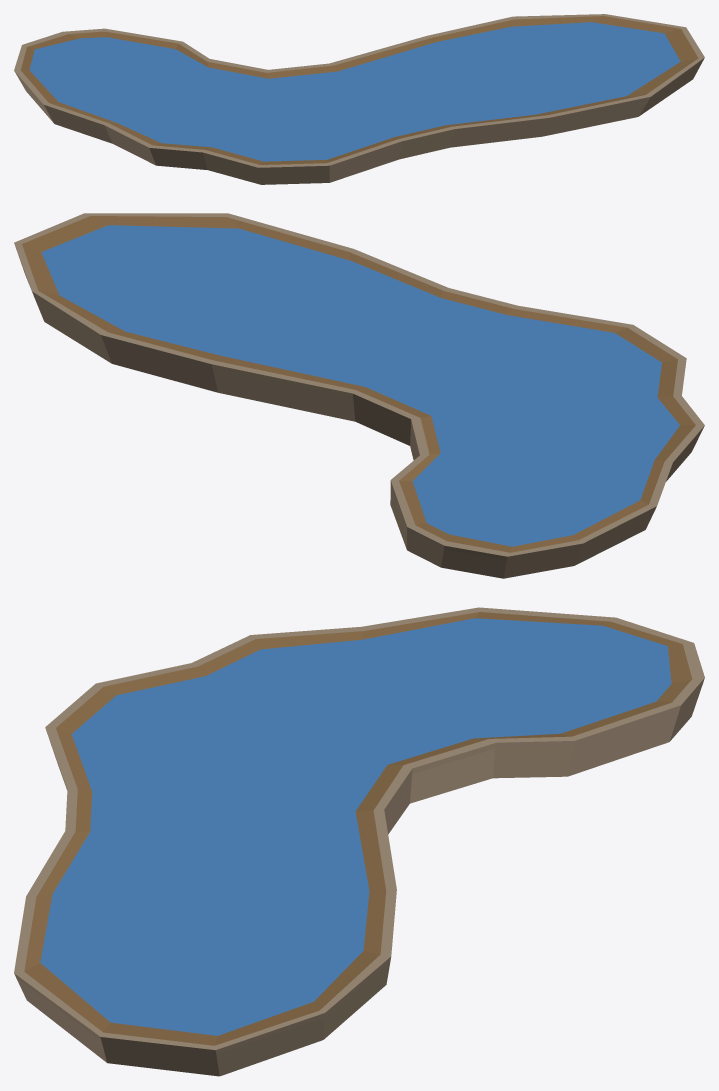
File: Lake_2.fbx
3 renders of one model, top to bottom at view 1: azimuth 30°, elevation 25°; view 2: azimuth 150°, elevation 25°; view 3: azimuth 270°, elevation 25°, orthographic. The views are drawn at different scales.
Parts seen in each view (by area): view 1: Lake_2; view 2: Lake_2; view 3: Lake_2.
Boxes of the visible parts, x1,y1,x2,y2 form: Lake_2: [14, 14, 704, 184]; Lake_2: [14, 213, 704, 578]; Lake_2: [14, 607, 704, 1076].
Bounding box in the file's own units: 1849 × 67.8 × 1220.
